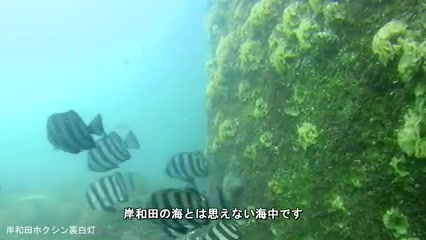ishidai: (84, 165, 147, 211), (43, 109, 108, 153), (88, 128, 141, 172), (165, 148, 219, 180)
